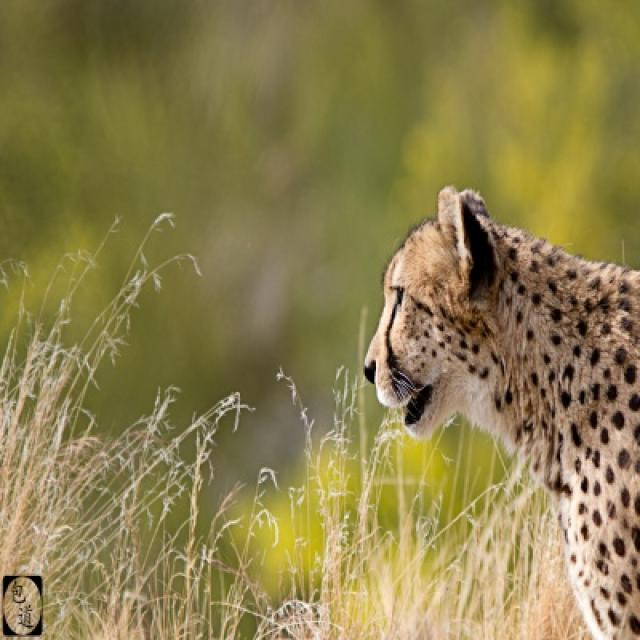Cheetah: (354, 181, 638, 638)
